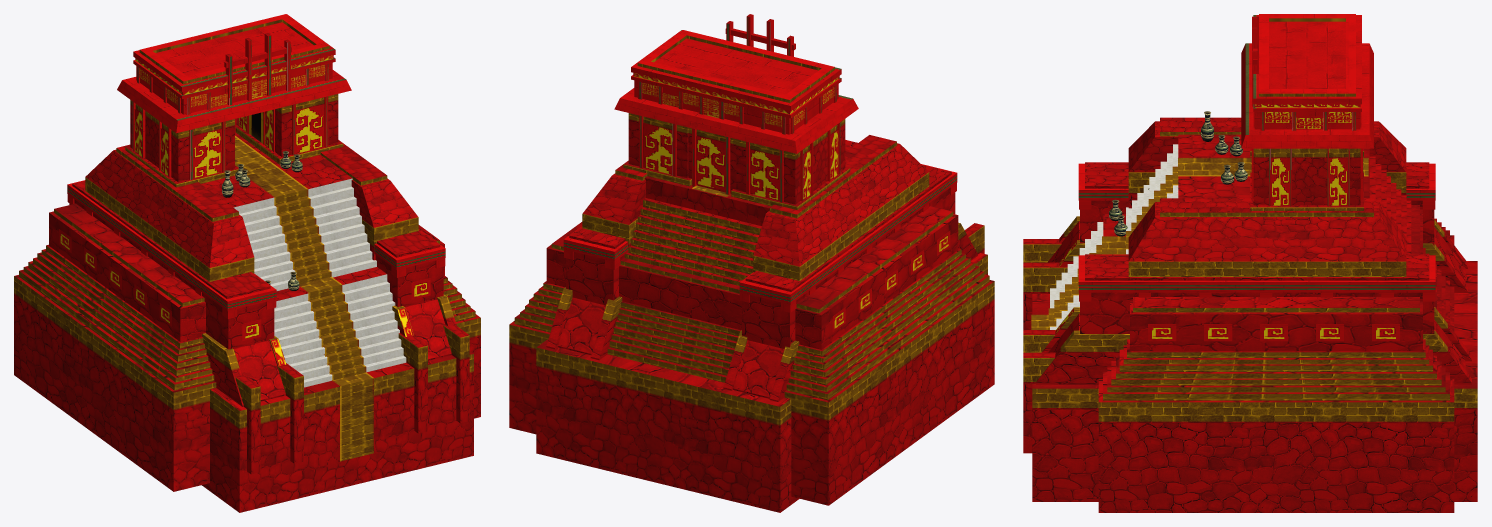
File: zapo_temple.dae
3 renders of one model, left to right at view 1: azimuth 30°, elevation 25°; view 2: azimuth 150°, elevation 25°; view 3: azimuth 270°, elevation 25°, orthographic. The views are drawn at different scales.
Parts seen in each view (by area): view 1: Temple; view 2: Temple; view 3: Temple.
Boxes of the visible parts, x1,y1,x2,y2 form: Temple: (14, 14, 480, 512); Temple: (509, 14, 994, 512); Temple: (1023, 14, 1477, 512).
Bounding box in the file's own units: 21.43 × 24.63 × 24.91.
